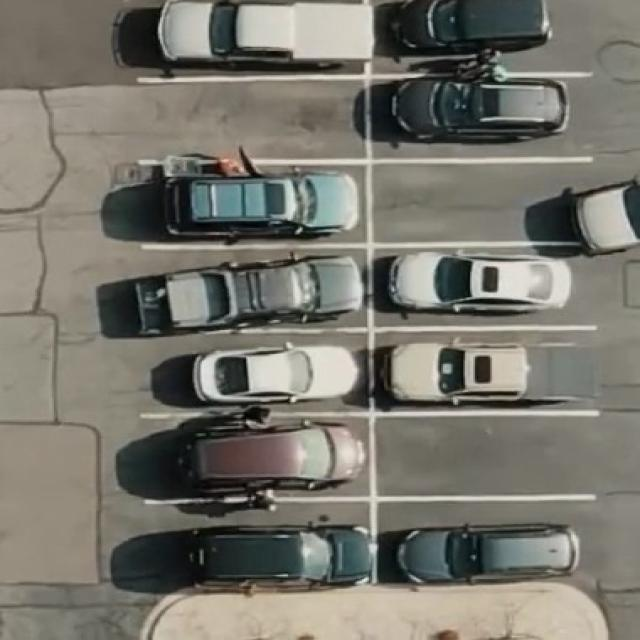space-empty: (135, 70, 367, 166), (367, 156, 600, 249), (369, 411, 598, 501)
space-occupied: (106, 498, 374, 595), (128, 411, 372, 501), (369, 323, 603, 412), (135, 156, 369, 245), (137, 242, 370, 331), (143, 323, 371, 413), (369, 65, 584, 160), (374, 497, 596, 586), (128, 0, 372, 79), (369, 239, 583, 326), (372, 0, 554, 64)
